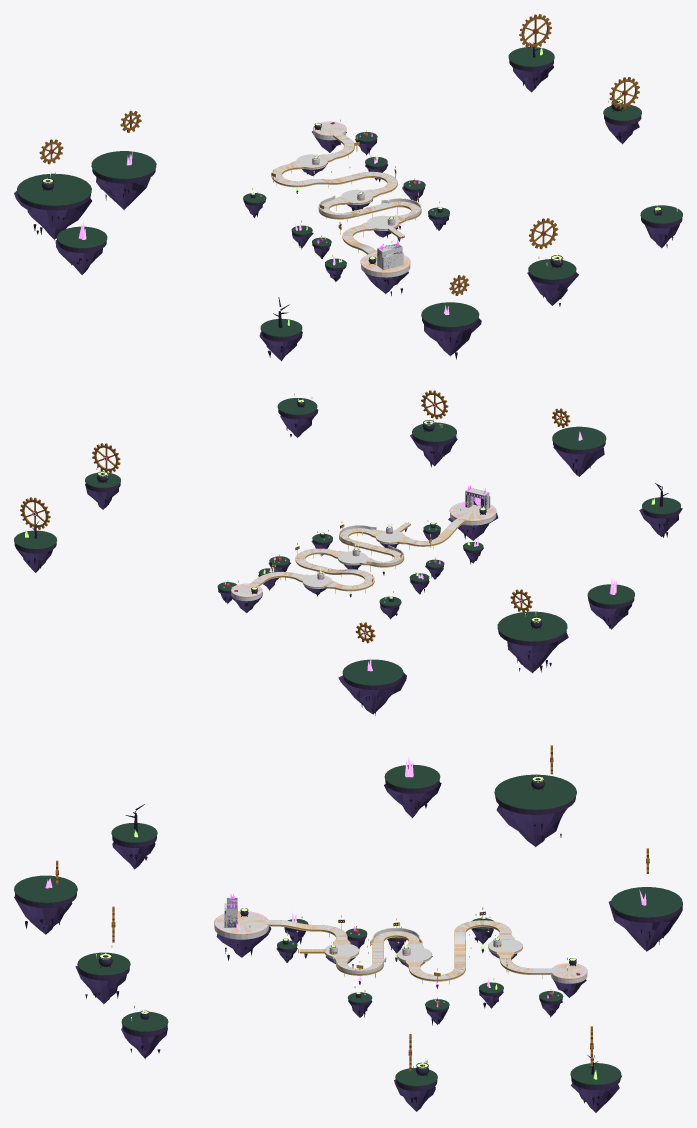
The picture shows the model from 3 angles, top to bottom: view 1: azimuth 30°, elevation 25°; view 2: azimuth 150°, elevation 25°; view 3: azimuth 270°, elevation 25°; orthographic projection. The views are drawn at different scales.
Visible parts, largest first — view 1: V_grass_dark, V_rock, C_0, V_dirt, V_walk, V_brass, C_1, V_rock_dark, C_2, V_iron, V_brass.006, V_glow_purple; view 2: V_grass_dark, V_rock, C_0, V_dirt, V_walk, V_brass, V_glow_purple, V_iron, C_1, V_rock_dark; view 3: V_grass_dark, V_rock, C_0, V_dirt, V_walk, V_brass, V_iron, V_glow_purple, V_rock_dark, C_1, V_walk_b.
Boxes of the visible parts, x1=… form: V_grass_dark: x1=17, y1=47, x2=682, y2=337; V_rock: x1=14, y1=65, x2=679, y2=361; C_0: x1=272, y1=121, x2=420, y2=277; V_dirt: x1=17, y1=60, x2=682, y2=341; V_walk: x1=273, y1=121, x2=419, y2=273; V_brass: x1=271, y1=122, x2=421, y2=254; C_1: x1=312, y1=156, x2=421, y2=225; V_rock_dark: x1=33, y1=77, x2=673, y2=359; C_2: x1=377, y1=243, x2=403, y2=269; V_iron: x1=42, y1=99, x2=662, y2=268; V_brass.006: x1=519, y1=14, x2=551, y2=48; V_glow_purple: x1=78, y1=122, x2=449, y2=314; V_grass_dark: x1=14, y1=398, x2=680, y2=685; V_rock: x1=16, y1=409, x2=682, y2=714; C_0: x1=231, y1=501, x2=496, y2=601; V_dirt: x1=14, y1=409, x2=680, y2=689; V_walk: x1=231, y1=504, x2=496, y2=597; V_brass: x1=227, y1=517, x2=465, y2=592; V_glow_purple: x1=231, y1=431, x2=616, y2=671; V_iron: x1=97, y1=399, x2=542, y2=629; C_1: x1=317, y1=525, x2=403, y2=579; V_rock_dark: x1=27, y1=423, x2=668, y2=715; V_grass_dark: x1=14, y1=764, x2=682, y2=1086; V_rock: x1=14, y1=782, x2=682, y2=1112; C_0: x1=214, y1=911, x2=587, y2=983; V_dirt: x1=15, y1=780, x2=681, y2=1091; V_walk: x1=214, y1=911, x2=587, y2=979; V_brass: x1=265, y1=911, x2=578, y2=1001; V_iron: x1=98, y1=776, x2=576, y2=1076; V_glow_purple: x1=45, y1=757, x2=646, y2=1000; V_rock_dark: x1=25, y1=799, x2=663, y2=1106; C_1: x1=329, y1=928, x2=501, y2=973; V_walk_b: x1=266, y1=920, x2=533, y2=978.
Size of the model in its own units: 163 by 34.83 by 147.
